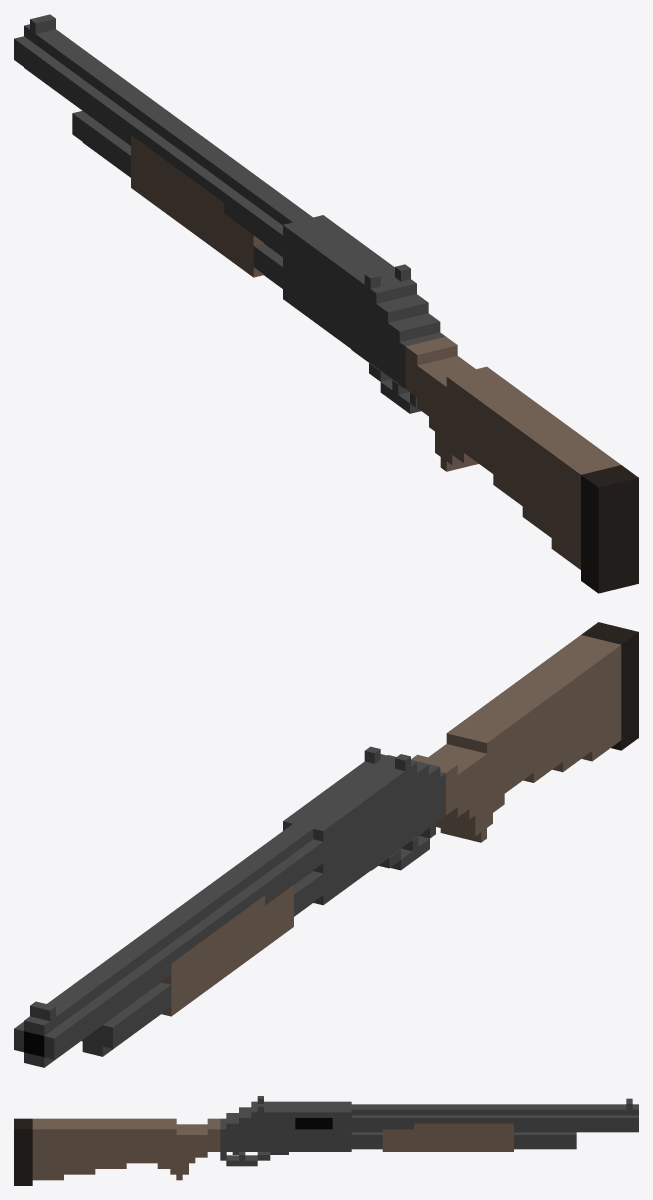
File: Shotgun_1.obj
3 renders of one model, top to bottom at view 1: azimuth 30°, elevation 25°; view 2: azimuth 150°, elevation 25°; view 3: azimuth 270°, elevation 25°, orthographic. The views are drawn at different scales.
Bounding box in the file's own units: 4 × 14 × 100.
1 material, 1 textured.
